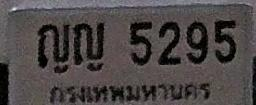2: (158, 21, 180, 64)
5: (130, 21, 152, 65), (214, 20, 236, 62)
9: (186, 21, 208, 64)
A13: (38, 22, 70, 68), (72, 22, 104, 66)
BKK: (44, 78, 213, 105)
